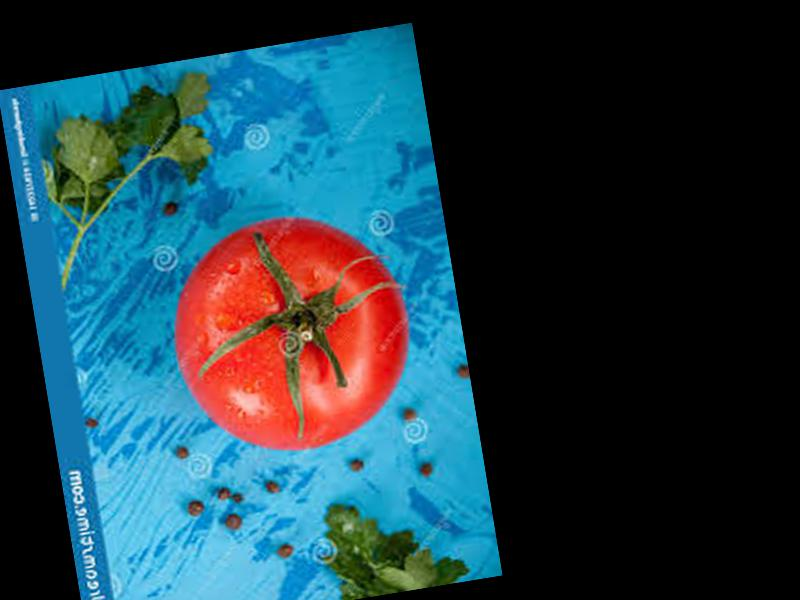Tomato: (157, 199, 424, 466)
